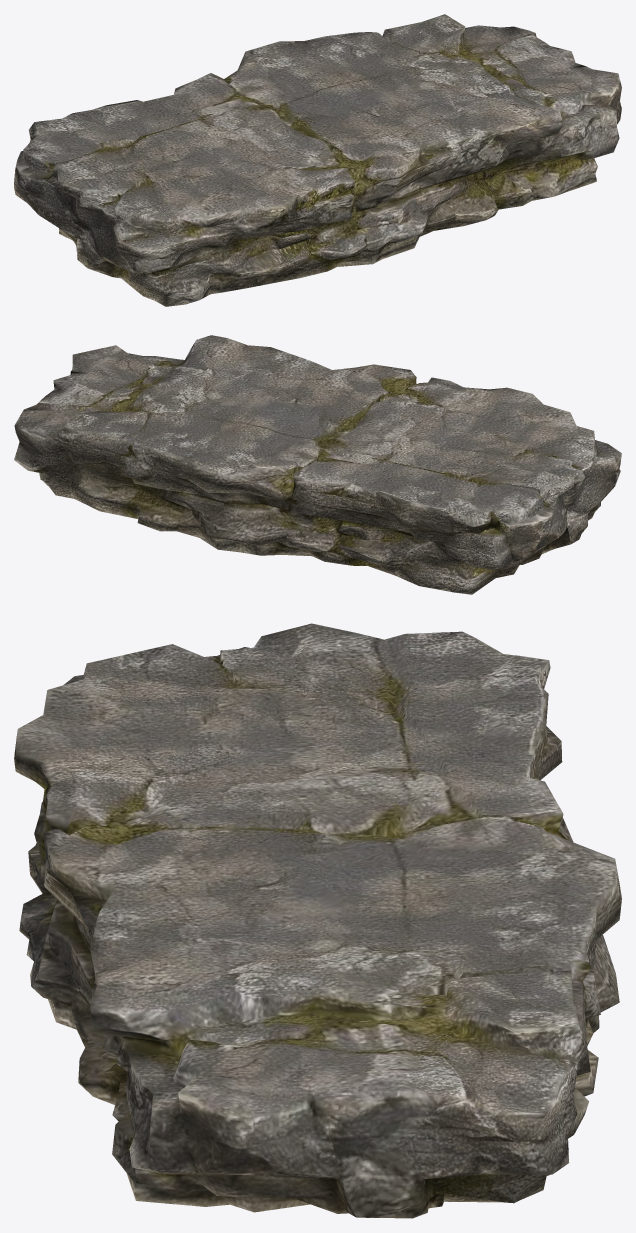
File: rock-slab.glb
3 renders of one model, top to bottom at view 1: azimuth 30°, elevation 25°; view 2: azimuth 150°, elevation 25°; view 3: azimuth 270°, elevation 25°, orthographic. The views are drawn at different scales.
Parts seen in each view (by area): view 1: tripo_node_c10fe243-6ee1-4760-97d5-695e7efe8589; view 2: tripo_node_c10fe243-6ee1-4760-97d5-695e7efe8589; view 3: tripo_node_c10fe243-6ee1-4760-97d5-695e7efe8589.
Part boxes in pixels (box(x1,y1,x2,y2)): tripo_node_c10fe243-6ee1-4760-97d5-695e7efe8589: box(14, 14, 621, 306); tripo_node_c10fe243-6ee1-4760-97d5-695e7efe8589: box(14, 335, 621, 594); tripo_node_c10fe243-6ee1-4760-97d5-695e7efe8589: box(14, 623, 621, 1218).
Bounding box in the file's own units: 1 × 0.1549 × 0.5351.
1 material, 1 textured.
